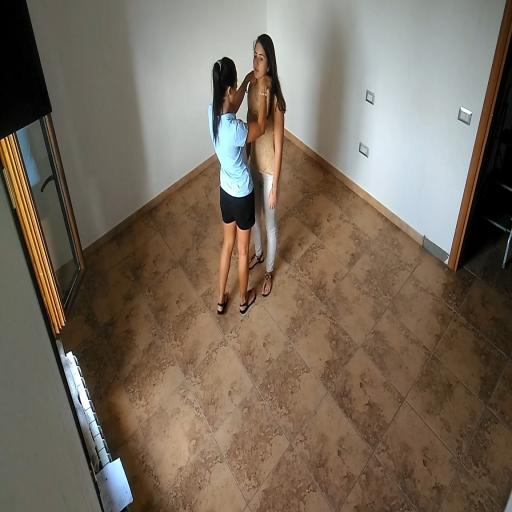nao-violencia: (192, 27, 298, 323)
